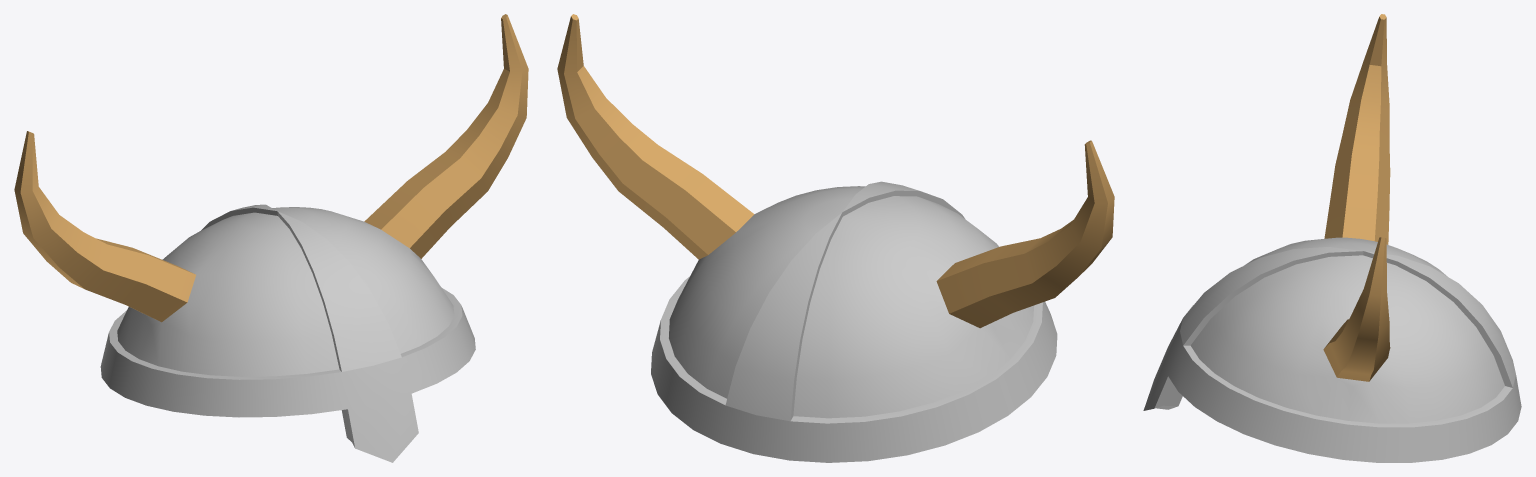
File: viking_helmet.fbx
The picture shows the model from 3 angles, left to right: view 1: azimuth 30°, elevation 25°; view 2: azimuth 150°, elevation 25°; view 3: azimuth 270°, elevation 25°; orthographic projection. The views are drawn at different scales.
Parts seen in each view (by area): view 1: viking helmet; view 2: viking helmet; view 3: viking helmet.
Boxes of the visible parts, left/top/right/bottom form: viking helmet: left=14, top=14, right=528, bottom=462; viking helmet: left=557, top=14, right=1114, bottom=462; viking helmet: left=1143, top=14, right=1521, bottom=462.
Bounding box in the file's own units: 170 × 95.37 × 115.
